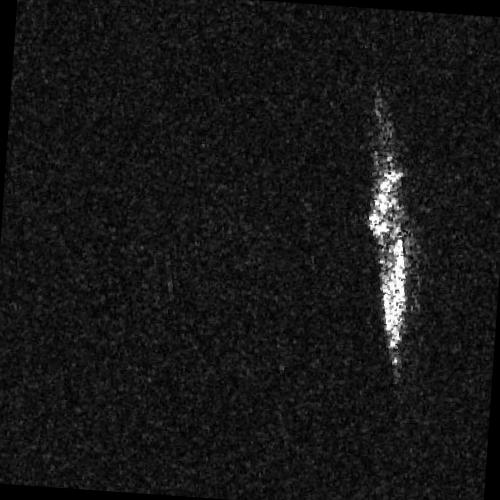ship: (368, 122, 409, 368)
